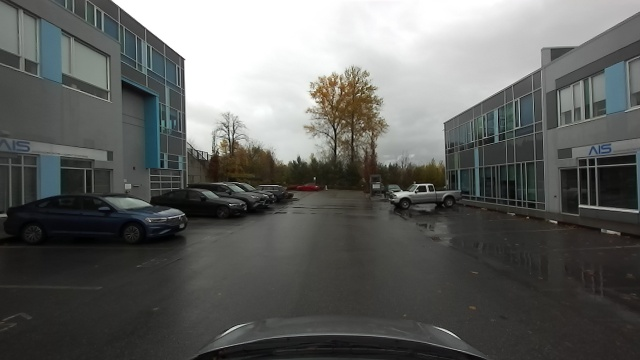car: (7, 193, 190, 242), (388, 184, 462, 214), (186, 190, 244, 221), (243, 187, 274, 210)
